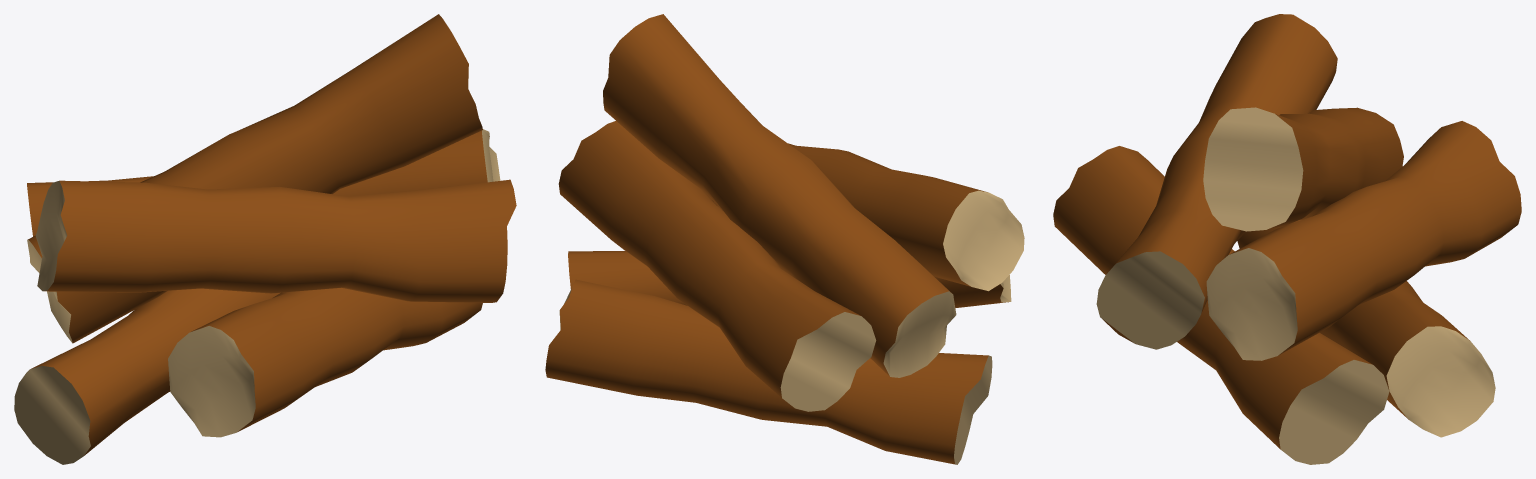
Rendered from wood.FBX.
3 renders of one model, left to right at view 1: azimuth 30°, elevation 25°; view 2: azimuth 150°, elevation 25°; view 3: azimuth 270°, elevation 25°, orthographic. The views are drawn at different scales.
Visible parts, largest first — view 1: wood; view 2: wood; view 3: wood.
Part boxes in pixels (<box>): wood: <box>14,14,516,464</box>; wood: <box>545,14,1024,464</box>; wood: <box>1053,14,1521,464</box>.
Bounding box in the file's own units: 41.36 × 31.2 × 34.93.
